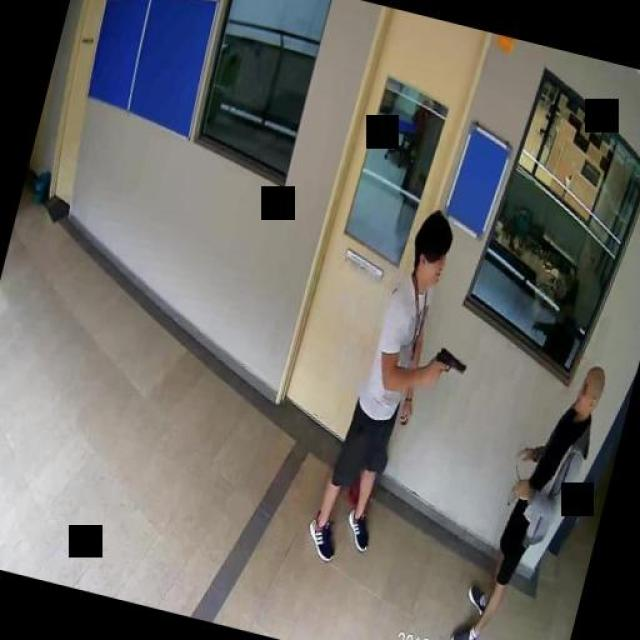gun: (428, 345, 468, 389)
